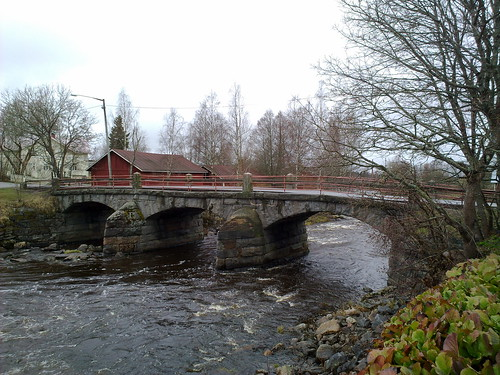bridge: (50, 157, 488, 279)
building: (92, 145, 209, 182)
river: (1, 229, 399, 375)
sky: (1, 1, 345, 94)
tree: (331, 1, 500, 255), (1, 87, 95, 192), (243, 108, 299, 181), (186, 94, 235, 168), (107, 86, 142, 149), (157, 102, 187, 157)
